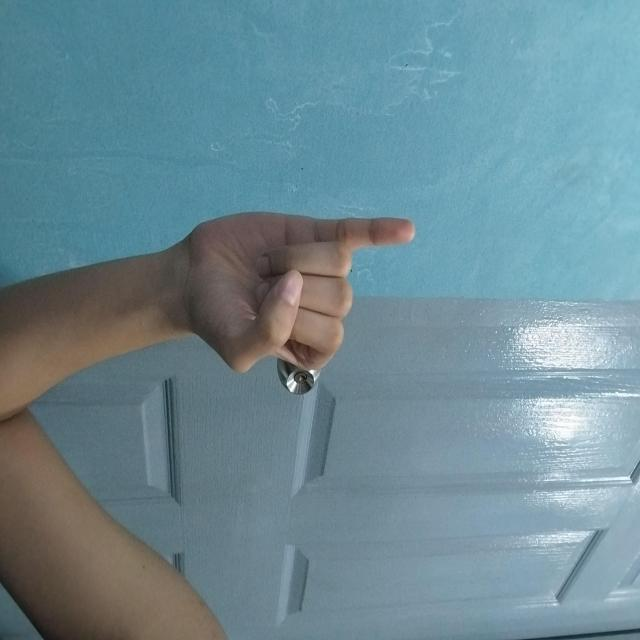I: (212, 221, 374, 454)
